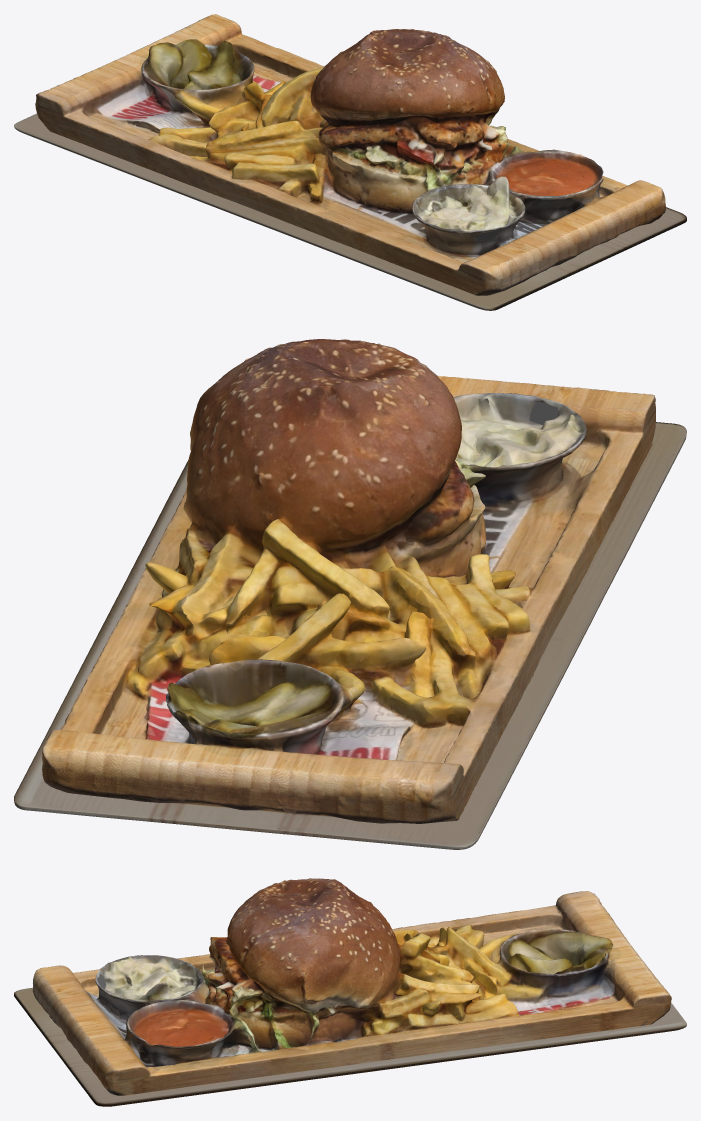
File: chicken.humburger.glb
3 views of the same model, one above another, from view 1: azimuth 30°, elevation 25°; view 2: azimuth 150°, elevation 25°; view 3: azimuth 270°, elevation 25° (orthographic). The views are drawn at different scales.
Parts seen in each view (by area): view 1: /Root/Scenes/Scene/Object_38/Object_39/Submesh_0, /Root/Scenes/Scene/Object_38/Object_619/Object_620/Submesh_0; view 2: /Root/Scenes/Scene/Object_38/Object_39/Submesh_0, /Root/Scenes/Scene/Object_38/Object_619/Object_620/Submesh_0; view 3: /Root/Scenes/Scene/Object_38/Object_39/Submesh_0, /Root/Scenes/Scene/Object_38/Object_619/Object_620/Submesh_0.
Boxes of the visible parts, x1=… form: /Root/Scenes/Scene/Object_38/Object_39/Submesh_0: x1=35, y1=14, x2=665, y2=295; /Root/Scenes/Scene/Object_38/Object_619/Object_620/Submesh_0: x1=14, y1=113, x2=686, y2=310; /Root/Scenes/Scene/Object_38/Object_39/Submesh_0: x1=42, y1=339, x2=655, y2=823; /Root/Scenes/Scene/Object_38/Object_619/Object_620/Submesh_0: x1=14, y1=422, x2=686, y2=849; /Root/Scenes/Scene/Object_38/Object_39/Submesh_0: x1=32, y1=878, x2=671, y2=1095; /Root/Scenes/Scene/Object_38/Object_619/Object_620/Submesh_0: x1=14, y1=987, x2=686, y2=1106.
Bounding box in the file's own units: 0.2902 × 0.0958 × 0.4294.
3 materials, 2 textured.
